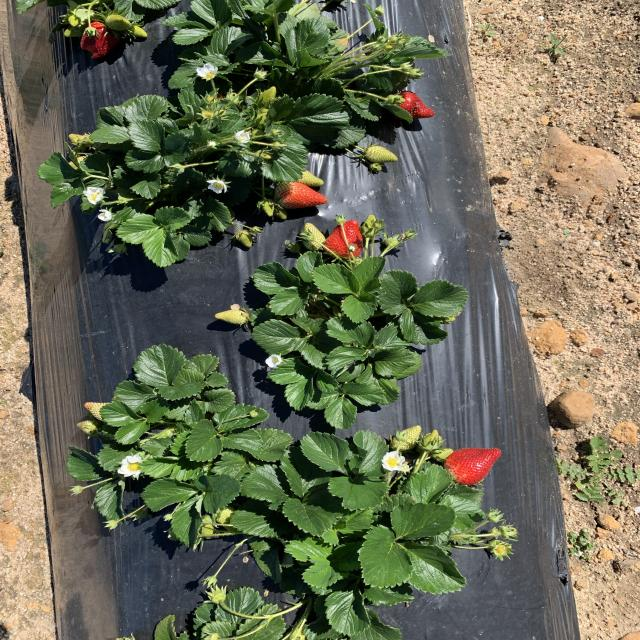unripe: (444, 445, 505, 487), (386, 85, 438, 120), (324, 220, 367, 259), (270, 181, 326, 210), (81, 18, 115, 61)
